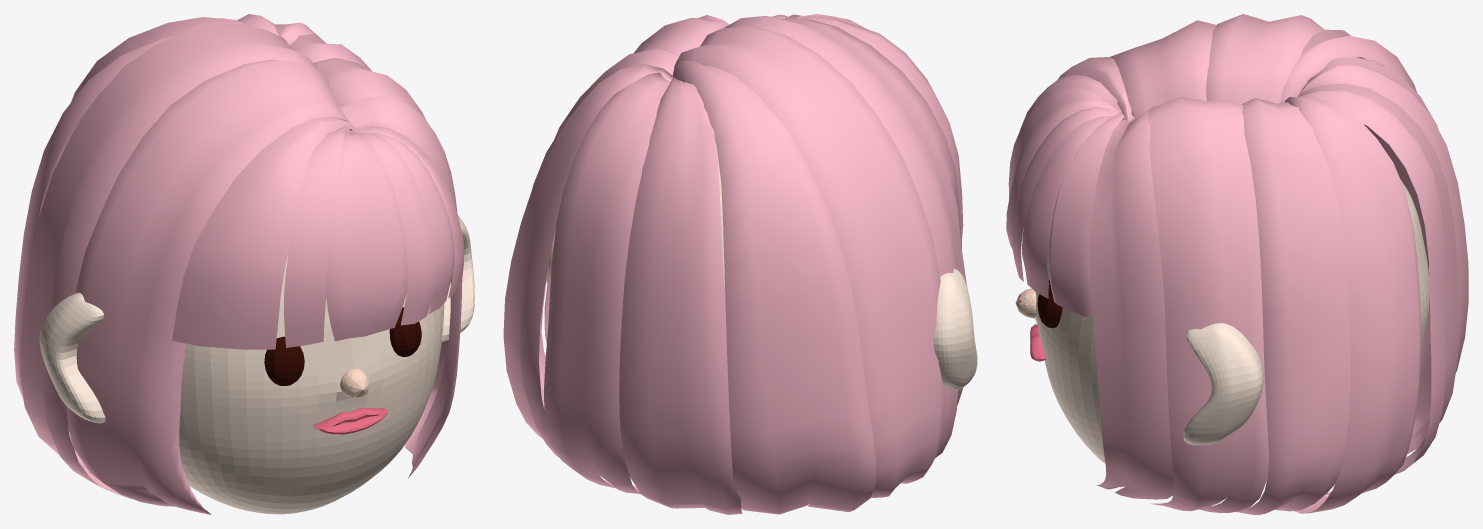
3 renders of one model, left to right at view 1: azimuth 30°, elevation 25°; view 2: azimuth 150°, elevation 25°; view 3: azimuth 270°, elevation 25°, orthographic. The views are drawn at different scales.
Visible parts, largest first — view 1: dummyHair, Face, Leye, Mouth, Reye, Cone; view 2: dummyHair, Face; view 3: dummyHair, Face, Reye.
Part boxes in pixels (x1,y1,x2,y2): dummyHair: [14, 14, 463, 514]; Face: [39, 215, 474, 514]; Leye: [264, 336, 304, 385]; Mouth: [313, 408, 387, 434]; Reye: [389, 307, 421, 356]; Cone: [340, 368, 369, 398]; dummyHair: [503, 14, 966, 514]; Face: [546, 143, 977, 390]; dummyHair: [1006, 14, 1468, 514]; Face: [1035, 179, 1429, 477]; Reye: [1037, 280, 1062, 328].
Bounding box in the file's own units: 191 × 192 × 181.
